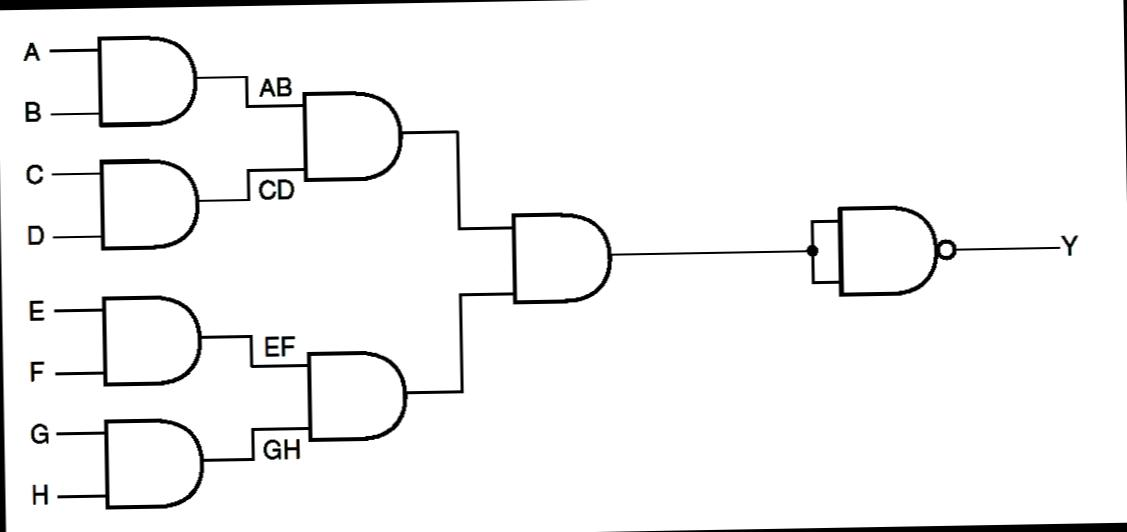and: (500, 200, 622, 316), (82, 26, 207, 136), (296, 338, 416, 448), (90, 410, 212, 518), (87, 288, 210, 394), (90, 150, 207, 257), (292, 84, 409, 190)
nand: (822, 193, 963, 304)
